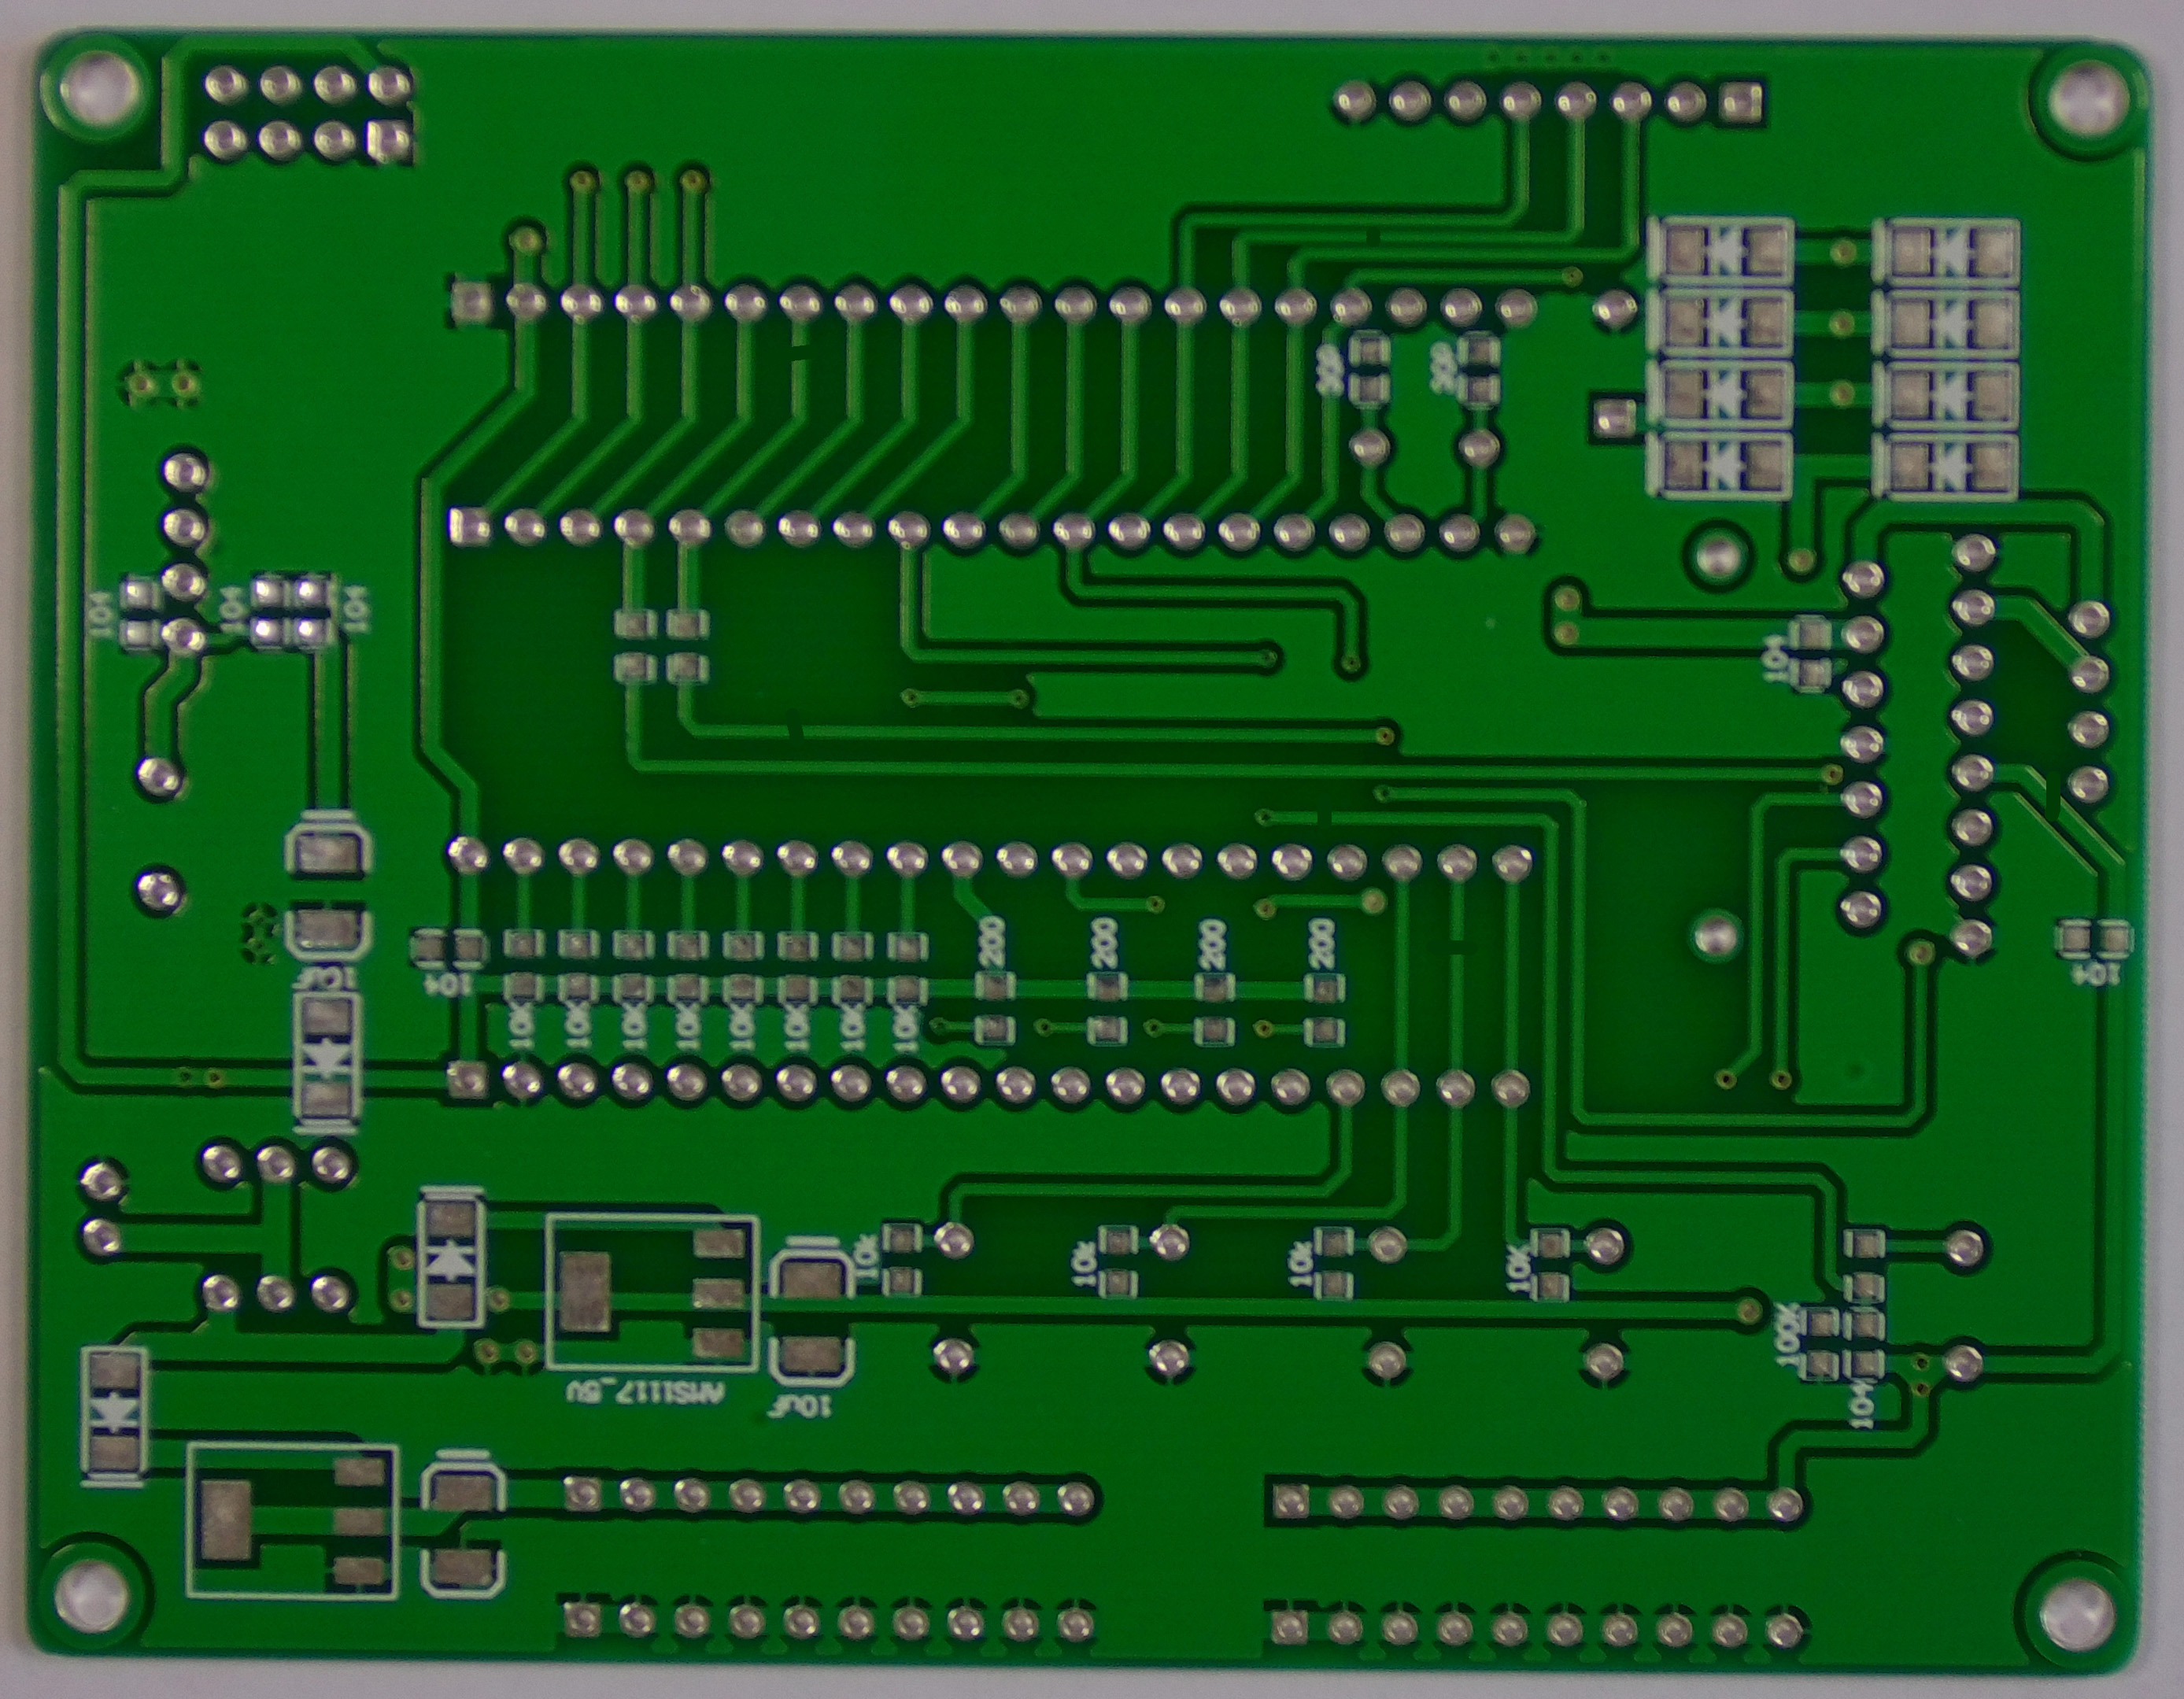open_circuit: (2036, 768, 2072, 831), (773, 713, 815, 748), (783, 337, 819, 368), (1442, 931, 1470, 964), (1309, 801, 1338, 831), (1358, 226, 1386, 249)
